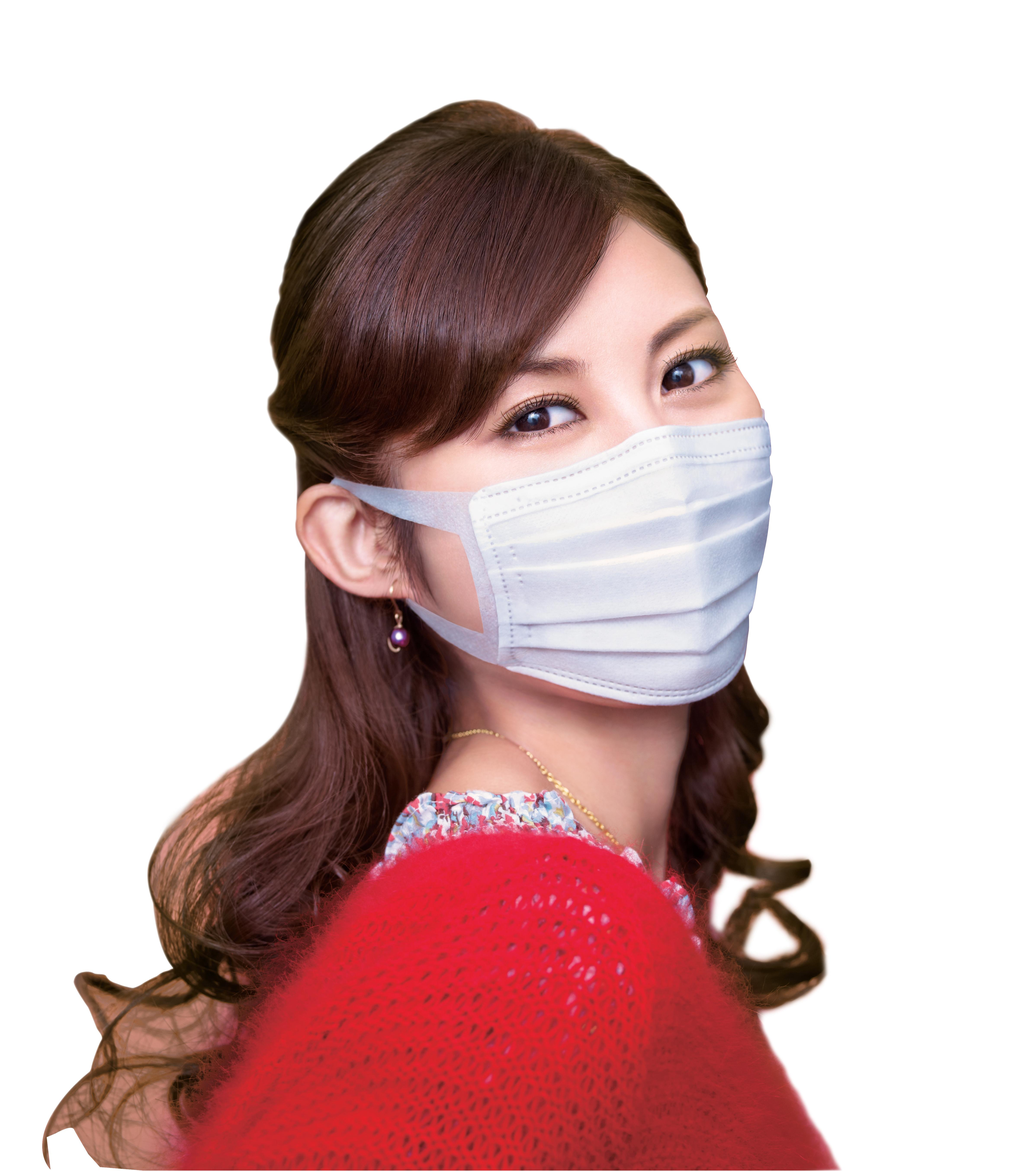Wearing Mask: (133, 39, 902, 876)
